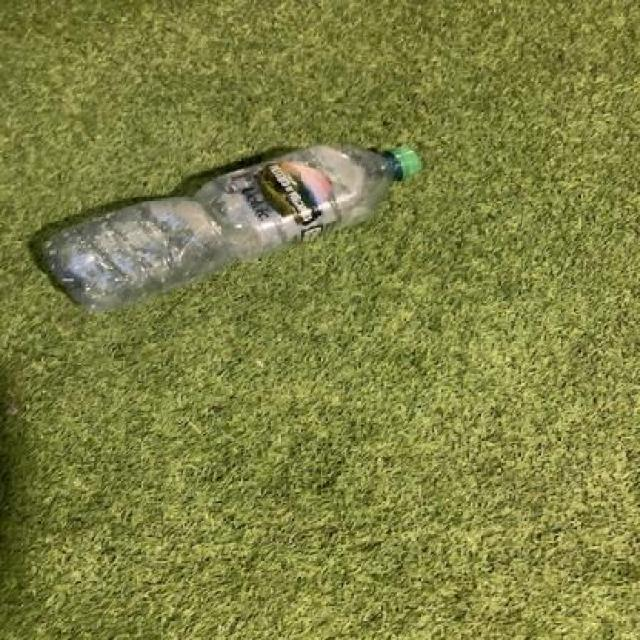trash: (36, 139, 422, 315)
